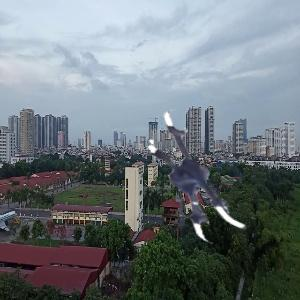drone: (136, 106, 274, 244)
